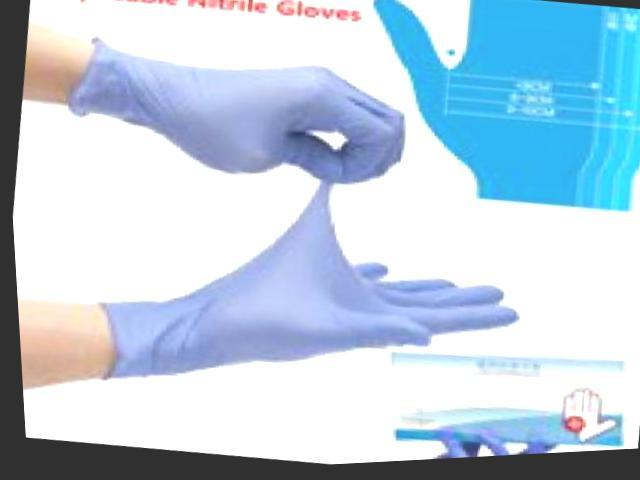Hand-in-Glove: (42, 156, 548, 446), (50, 0, 446, 221)
